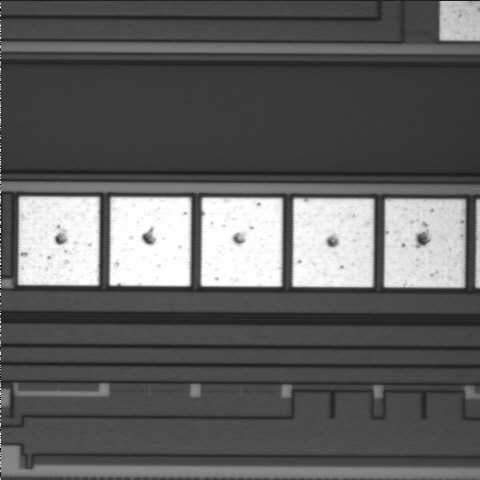pad: (110, 197, 191, 286), (201, 198, 282, 287), (293, 198, 374, 287), (18, 197, 99, 285), (384, 199, 465, 287)
